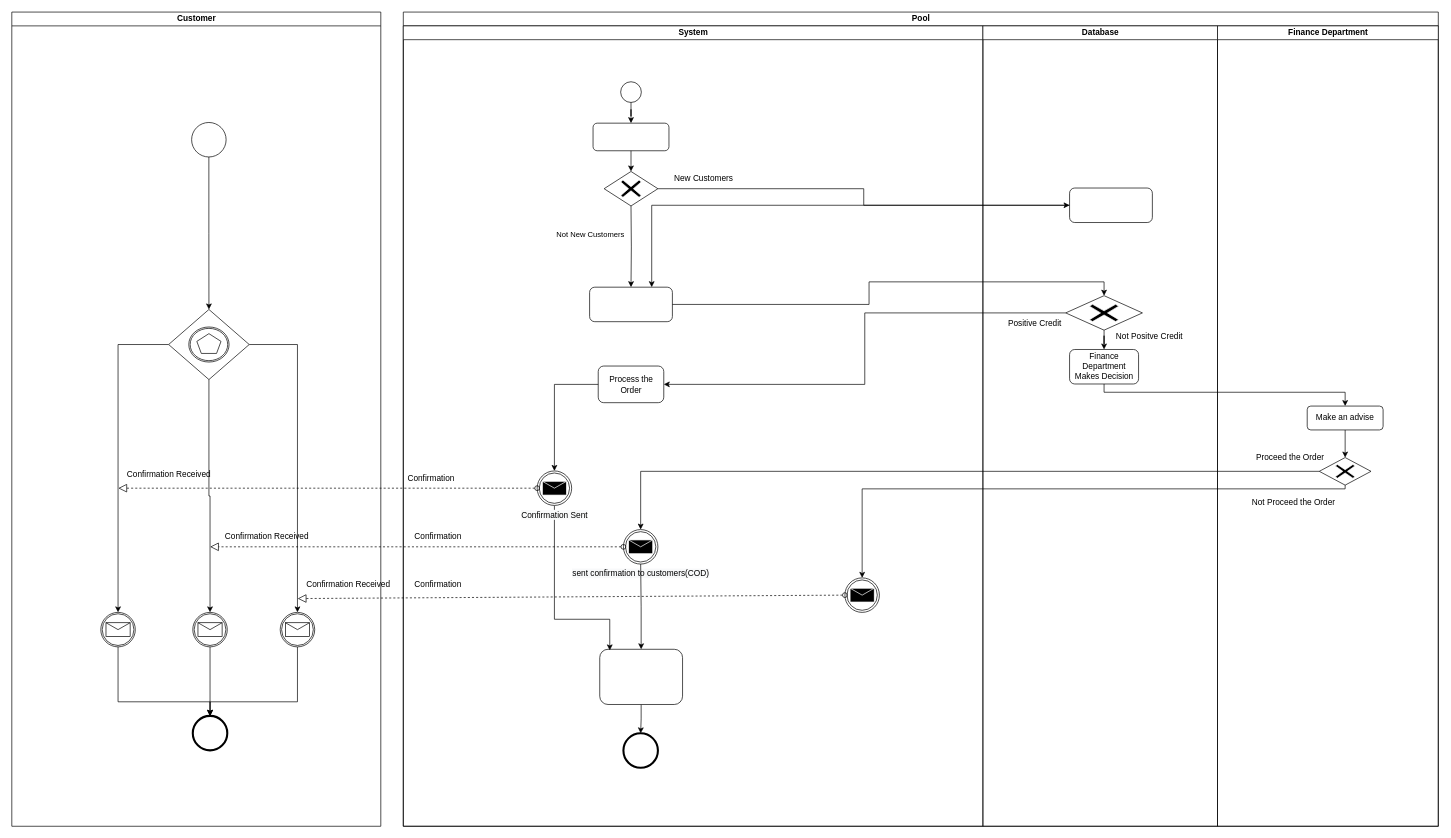
Some shapes in this 1451 by 838 pixel diagram are drawn without their labels. The shapes that lost their labels are listed below. From the top down, each one's centre as x and y in pixels, then its label:
point 630,136: Customers are Checked
point 1110,205: Enter Information onto Database
point 630,304: Check for Credit
point 861,594: sent to the customer that the order cannot be fulfilled
point 641,676: Produce a Requirements List
